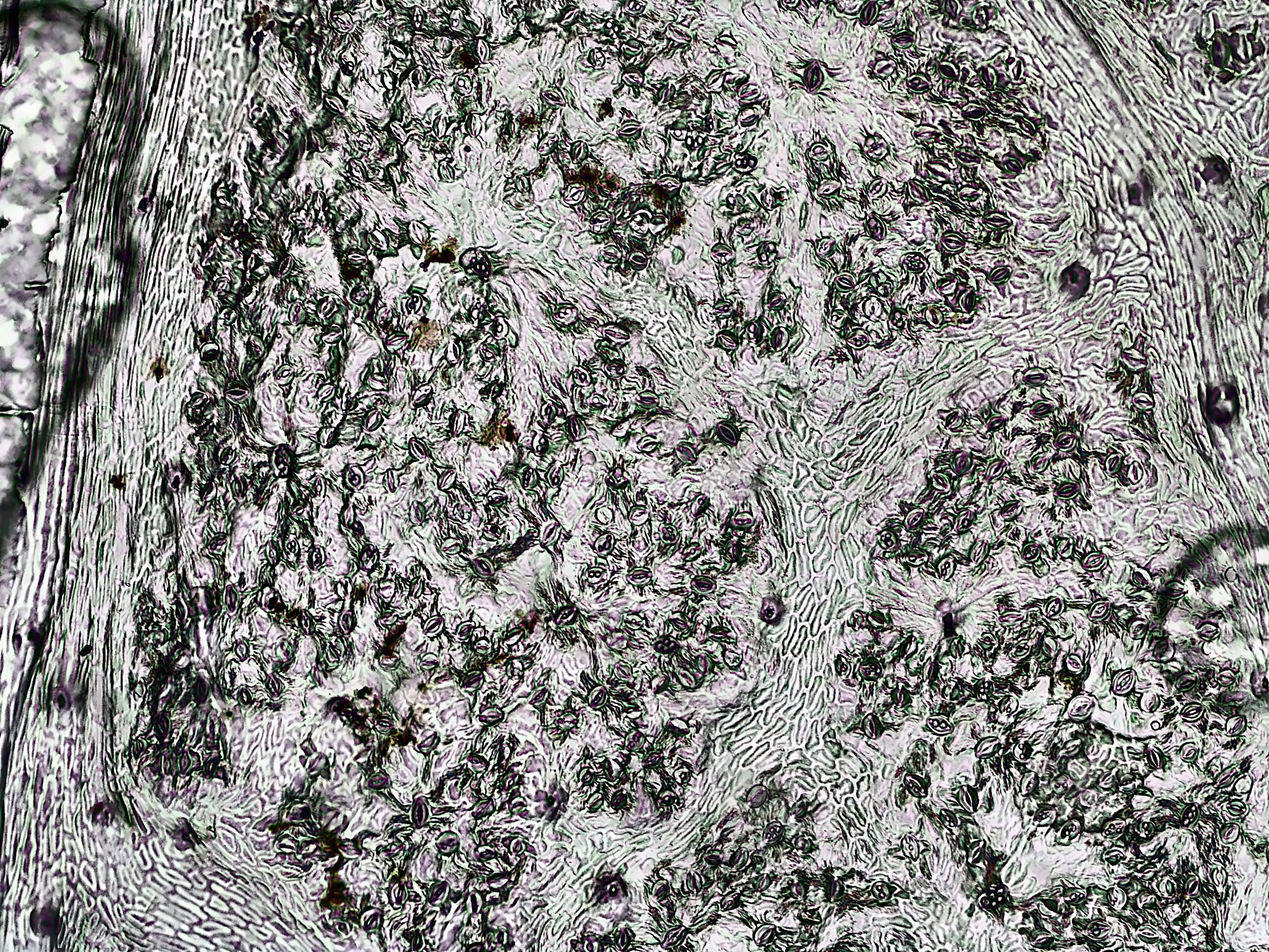stomata: (460, 249, 492, 283), (182, 554, 216, 586), (323, 4, 356, 34), (1232, 27, 1262, 60), (186, 671, 212, 707), (982, 210, 1017, 236), (596, 321, 632, 345), (471, 76, 495, 112), (1064, 695, 1098, 720), (1111, 667, 1138, 697), (1118, 345, 1148, 372), (736, 82, 765, 109), (404, 65, 434, 91), (443, 333, 468, 364), (1014, 111, 1042, 138), (901, 772, 928, 800), (317, 90, 346, 116), (801, 61, 825, 92), (404, 438, 433, 463), (135, 642, 159, 672), (998, 153, 1030, 175), (550, 300, 575, 328), (449, 67, 469, 102), (715, 421, 739, 450), (216, 435, 237, 468), (711, 28, 741, 51), (957, 782, 979, 813), (923, 158, 957, 178), (406, 220, 432, 246), (408, 797, 429, 829), (401, 290, 426, 316), (864, 133, 889, 159), (676, 442, 701, 468), (602, 16, 628, 41), (973, 737, 1000, 761), (334, 48, 357, 76), (659, 927, 691, 947), (270, 446, 292, 475), (354, 546, 383, 568), (220, 582, 242, 611), (148, 714, 170, 743), (589, 208, 614, 233), (906, 178, 931, 203), (470, 555, 495, 580), (535, 521, 560, 546), (378, 610, 402, 636), (365, 229, 392, 252), (758, 598, 781, 625), (999, 498, 1026, 521), (689, 575, 718, 596), (383, 119, 408, 143), (561, 182, 586, 206), (411, 384, 435, 409), (554, 603, 579, 627), (269, 636, 294, 660), (937, 231, 964, 253), (380, 468, 402, 495), (164, 468, 186, 495), (1081, 921, 1114, 939), (922, 714, 953, 733), (735, 107, 763, 128), (707, 297, 735, 318), (706, 623, 734, 644), (230, 475, 250, 504), (888, 29, 917, 49), (337, 607, 357, 636), (965, 838, 985, 867), (767, 327, 791, 351), (275, 40, 298, 65), (536, 132, 559, 157), (620, 64, 643, 89), (389, 881, 412, 906), (320, 323, 346, 345), (606, 415, 632, 437), (658, 523, 680, 549), (987, 263, 1013, 285), (1163, 580, 1189, 602), (686, 119, 705, 149), (384, 160, 405, 187), (729, 151, 756, 172), (370, 578, 397, 599), (257, 589, 284, 610), (1058, 821, 1085, 842), (318, 423, 338, 451), (1134, 925, 1162, 945), (475, 706, 506, 724), (968, 540, 992, 563), (1043, 597, 1066, 621), (304, 753, 327, 777), (1213, 766, 1236, 790), (377, 67, 396, 96), (242, 155, 267, 177), (625, 250, 650, 272), (922, 306, 947, 328), (260, 669, 285, 691), (655, 790, 680, 812), (860, 714, 882, 739), (1017, 771, 1039, 796), (430, 113, 451, 139), (721, 540, 742, 566), (906, 73, 932, 94), (970, 3, 991, 29), (752, 924, 778, 945), (617, 39, 651, 55), (666, 24, 693, 44), (948, 452, 975, 472), (900, 834, 920, 861), (470, 799, 498, 818), (449, 502, 472, 525), (435, 35, 458, 58), (1152, 639, 1175, 662), (715, 330, 739, 352), (555, 6, 579, 28), (700, 109, 722, 133), (1063, 653, 1085, 677), (665, 716, 689, 738), (903, 253, 928, 274), (927, 471, 952, 492), (912, 125, 941, 143), (601, 631, 630, 649), (247, 106, 273, 126), (667, 612, 693, 632), (1007, 57, 1027, 83), (405, 573, 425, 599), (860, 657, 880, 683), (1030, 930, 1056, 950), (260, 138, 287, 157), (363, 406, 382, 433), (869, 58, 896, 77), (955, 147, 982, 166), (323, 813, 350, 832), (335, 841, 365, 858), (596, 177, 619, 199), (315, 295, 338, 317), (341, 465, 363, 488), (673, 666, 695, 689), (427, 882, 449, 905), (733, 219, 761, 237), (570, 366, 591, 390), (634, 390, 662, 408), (874, 530, 898, 551), (1130, 390, 1154, 411), (359, 908, 380, 932), (1178, 742, 1202, 763), (1145, 747, 1166, 771), (704, 68, 724, 93), (865, 611, 890, 631), (625, 729, 645, 754), (1224, 716, 1249, 736), (491, 315, 510, 341), (759, 241, 778, 267), (464, 890, 483, 916), (653, 176, 682, 193), (589, 43, 607, 70), (959, 104, 986, 122), (762, 822, 784, 844), (346, 160, 367, 183), (568, 140, 589, 163), (729, 509, 752, 530), (934, 557, 955, 580), (1128, 619, 1151, 640), (418, 732, 441, 753), (497, 773, 520, 794), (1215, 823, 1238, 844), (434, 161, 458, 181), (712, 244, 736, 264), (196, 342, 220, 362), (183, 390, 207, 410), (847, 331, 871, 351), (422, 615, 446, 635), (728, 848, 752, 868), (1012, 739, 1032, 763), (1106, 885, 1126, 909), (464, 110, 481, 138), (370, 715, 398, 732), (617, 703, 645, 720), (867, 214, 886, 239), (307, 545, 326, 570), (458, 670, 483, 689), (1101, 818, 1126, 837), (438, 467, 456, 493), (552, 711, 578, 729), (1178, 703, 1204, 721), (1055, 737, 1081, 755), (824, 872, 840, 901), (807, 142, 829, 163), (363, 371, 385, 392), (538, 401, 559, 423), (593, 535, 615, 556), (683, 870, 704, 892), (306, 127, 326, 150), (381, 332, 404, 352), (469, 301, 489, 324), (324, 640, 344, 663), (973, 633, 996, 653), (505, 659, 525, 682), (787, 876, 807, 899), (693, 654, 716, 674), (601, 360, 628, 377), (440, 536, 464, 555), (408, 501, 427, 525), (607, 467, 631, 486), (332, 575, 351, 599), (1053, 432, 1077, 451), (942, 680, 966, 699), (1035, 897, 1059, 916), (1178, 804, 1197, 828), (310, 477, 328, 502), (628, 567, 653, 585), (1055, 480, 1080, 498), (1225, 798, 1250, 816), (957, 186, 985, 202), (1019, 369, 1047, 385), (954, 514, 982, 530), (376, 652, 402, 669), (921, 657, 938, 683), (287, 805, 313, 822), (288, 211, 309, 232), (272, 364, 293, 385), (468, 16, 489, 37), (657, 82, 678, 103), (1131, 567, 1152, 588), (746, 785, 766, 807), (1182, 877, 1204, 897), (244, 335, 263, 358), (765, 291, 788, 310), (864, 297, 883, 320), (681, 542, 704, 561), (602, 878, 621, 901), (718, 892, 741, 911), (795, 200, 810, 229), (217, 307, 241, 325), (221, 385, 248, 401), (283, 536, 301, 560), (551, 65, 567, 92), (900, 548, 927, 564), (999, 611, 1023, 629), (617, 121, 642, 138), (961, 289, 978, 314), (948, 637, 965, 662), (585, 688, 610, 705), (1173, 674, 1198, 691), (213, 183, 233, 204), (541, 93, 569, 108), (722, 191, 743, 211), (450, 408, 465, 436), (198, 483, 218, 504), (832, 656, 852, 677), (986, 460, 1007, 480), (938, 809, 959, 829), (651, 132, 670, 154), (287, 303, 306, 325), (1082, 551, 1104, 570), (1103, 452, 1122, 474), (437, 832, 456, 854), (499, 523, 515, 549), (274, 255, 292, 278), (568, 416, 586, 439), (483, 488, 506, 506), (465, 752, 488, 770), (601, 757, 619, 780), (814, 180, 838, 197), (1039, 635, 1056, 659), (382, 825, 411, 839), (611, 788, 626, 815), (206, 532, 226, 552), (518, 18, 534, 43), (981, 63, 997, 88), (976, 678, 996, 698), (871, 882, 891, 902), (1208, 866, 1228, 886), (629, 210, 650, 229), (757, 187, 776, 208), (479, 343, 498, 364), (816, 236, 835, 257), (865, 176, 884, 197), (471, 637, 492, 656), (888, 685, 909, 704), (613, 660, 632, 681), (1158, 878, 1179, 897), (899, 635, 917, 657), (903, 510, 925, 528), (944, 411, 966, 429), (614, 930, 632, 952), (1134, 890, 1156, 908), (834, 272, 857, 289), (628, 506, 651, 523), (504, 2, 527, 19), (366, 773, 389, 790), (533, 432, 549, 456), (581, 565, 605, 581), (1019, 541, 1038, 561), (508, 797, 528, 816), (584, 793, 603, 813), (672, 766, 691, 786), (1096, 770, 1116, 789), (844, 610, 863, 630), (352, 132, 373, 150), (889, 309, 907, 330), (584, 396, 605, 414), (387, 45, 408, 63), (501, 627, 522, 645), (548, 464, 563, 489), (409, 5, 424, 30), (350, 285, 372, 302), (447, 8, 464, 30), (640, 750, 662, 767), (1064, 887, 1086, 904), (417, 654, 440, 670), (525, 688, 548, 704), (485, 870, 508, 886), (341, 387, 355, 413), (380, 843, 406, 857), (601, 243, 620, 262), (576, 766, 595, 785), (213, 276, 231, 296), (824, 309, 848, 324), (392, 23, 410, 43), (455, 621, 473, 641), (276, 836, 294, 856), (202, 755, 220, 775), (176, 753, 194, 773), (520, 469, 537, 490), (691, 495, 708, 516), (936, 276, 957, 293), (950, 266, 971, 283), (331, 918, 352, 935), (1214, 670, 1236, 686), (1127, 461, 1142, 484), (699, 850, 722, 865), (636, 154, 655, 172), (595, 506, 613, 525), (710, 157, 728, 176), (1029, 453, 1048, 471), (1088, 602, 1107, 620), (999, 697, 1018, 715), (1172, 926, 1190, 945), (747, 320, 764, 340), (290, 501, 310, 518), (1197, 621, 1217, 638), (376, 307, 392, 328), (938, 63, 959, 79), (298, 609, 312, 633), (346, 250, 368, 265), (339, 503, 354, 525), (1104, 849, 1126, 864), (214, 241, 232, 259), (580, 934, 598, 952), (1136, 820, 1154, 838), (514, 172, 531, 191), (278, 121, 295, 140), (788, 801, 807, 818), (753, 874, 770, 893), (1142, 693, 1159, 712), (482, 381, 498, 401), (651, 880, 671, 896), (622, 614, 643, 629), (474, 42, 489, 63), (986, 417, 1007, 432), (1056, 537, 1071, 558), (864, 1, 878, 23), (410, 930, 424, 952), (800, 909, 822, 923), (1033, 810, 1055, 824), (969, 481, 987, 498), (236, 687, 253, 705), (794, 836, 811, 854), (280, 103, 296, 122), (639, 437, 658, 453), (297, 841, 316, 857), (492, 930, 511, 946), (1009, 643, 1029, 658), (265, 543, 278, 566), (867, 273, 890, 286), (1137, 602, 1158, 616), (651, 213, 669, 229), (318, 385, 336, 401), (1029, 730, 1047, 746), (1134, 793, 1152, 809), (954, 314, 976, 327), (232, 220, 251, 235), (1031, 401, 1050, 416), (652, 674, 667, 693), (506, 119, 520, 139), (255, 207, 272, 223), (239, 282, 256, 298), (474, 846, 496, 858), (920, 522, 940, 535), (628, 674, 645, 689), (917, 276, 929, 297), (947, 0, 959, 21), (234, 640, 248, 658), (629, 1, 648, 14), (311, 193, 327, 208), (352, 492, 367, 508), (510, 838, 525, 854), (244, 252, 258, 269), (1119, 776, 1136, 790), (1136, 865, 1155, 877), (1086, 743, 1100, 758), (673, 124, 685, 141), (464, 942, 484, 952), (350, 523, 362, 536), (877, 289, 895, 296)
